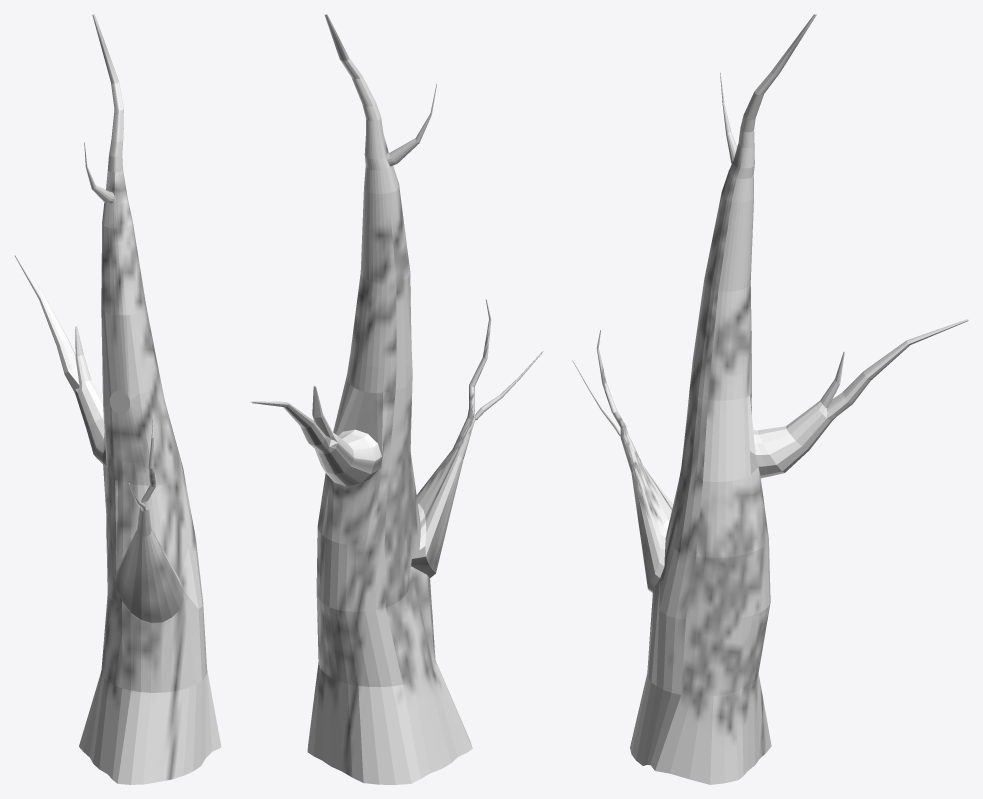
Rendered from ArbolNoHojas.fbx.
3 views of the same model, side by side, from view 1: azimuth 30°, elevation 25°; view 2: azimuth 150°, elevation 25°; view 3: azimuth 270°, elevation 25° (orthographic). The views are drawn at different scales.
Parts seen in each view (by area): view 1: Tallo; view 2: Tallo; view 3: Tallo.
Part boxes in pixels (x1,y1,x2,y2): Tallo: (14, 14, 221, 784); Tallo: (250, 14, 543, 784); Tallo: (572, 14, 968, 784).
Size of the model in its own units: 1.91 by 8.99 by 4.37.
Materials: 1 (1 with a texture image).
